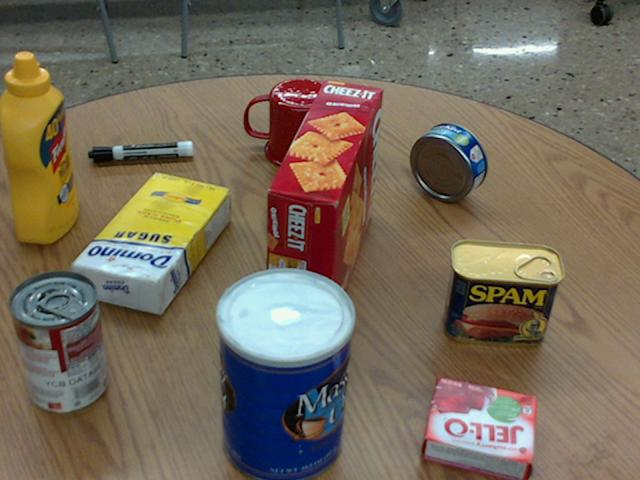cracker_box: (266, 81, 382, 338)
gelatin_box: (421, 376, 538, 479)
large_marker: (89, 141, 192, 161)
master_chef_can: (216, 269, 354, 479)
mug: (245, 79, 337, 171)
mustard_bottle: (0, 53, 77, 242)
potted_meat_can: (443, 239, 562, 346)
sugar_box: (70, 171, 230, 315)
tomato_soup_can: (8, 270, 106, 411)
tuna_fish_can: (408, 123, 485, 201)
